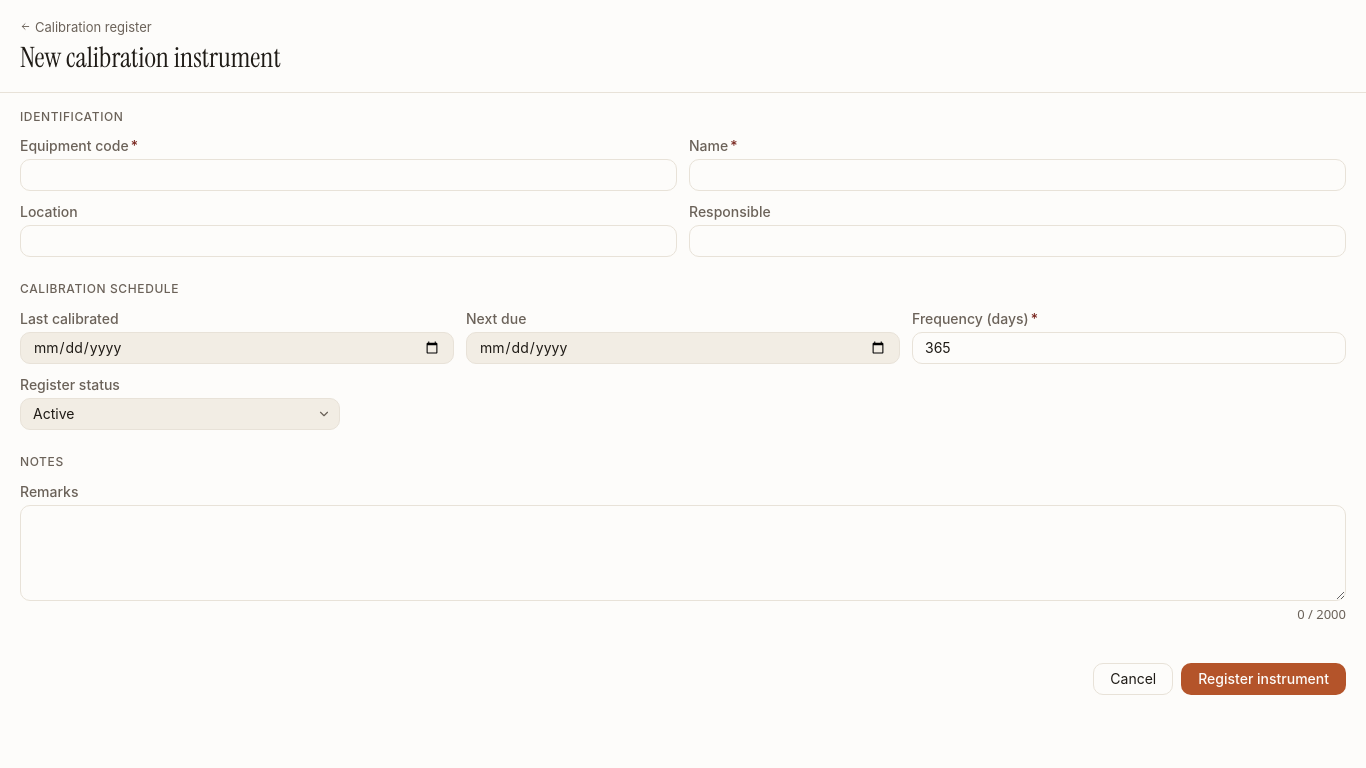
it: CalibrationFormPage › refuses a next-due date earlier than the last calibration date
In the field labelled "Equipment code*": (348, 175) [21,160,676,190], type "CAL-UI-2"
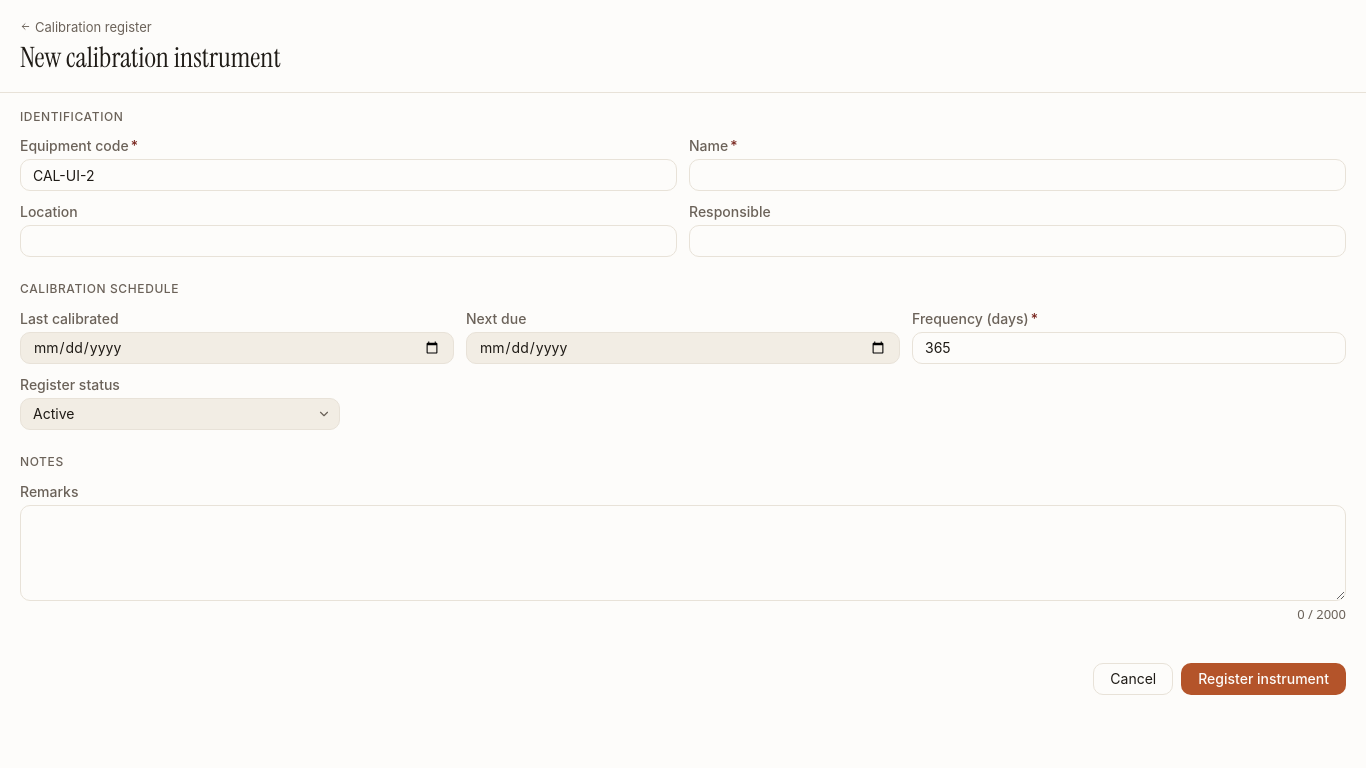
In the field labelled "Name*": (1018, 175) [690,160,1345,190], type "Micrometer"
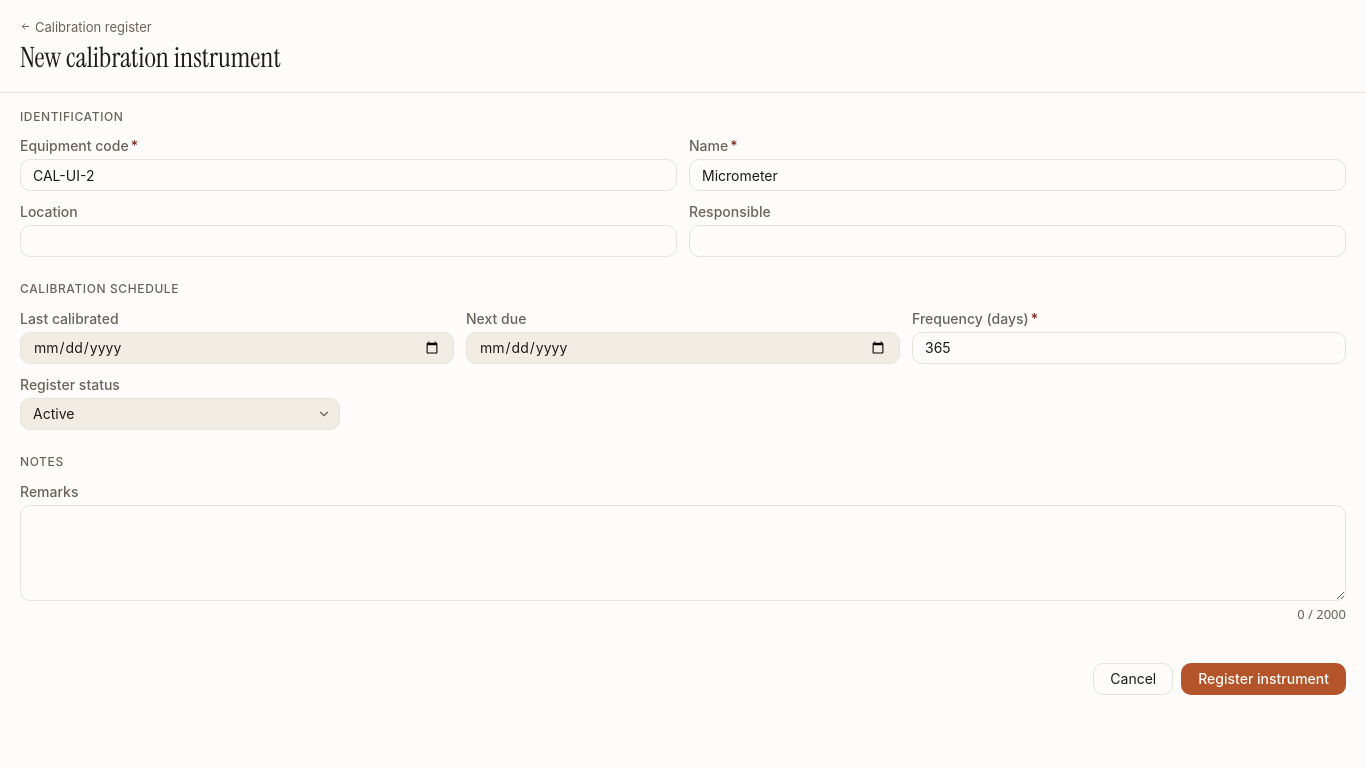
In the date field labelled "Last calibrated": (237, 348) [21,333,453,363], type "2026-10-19"
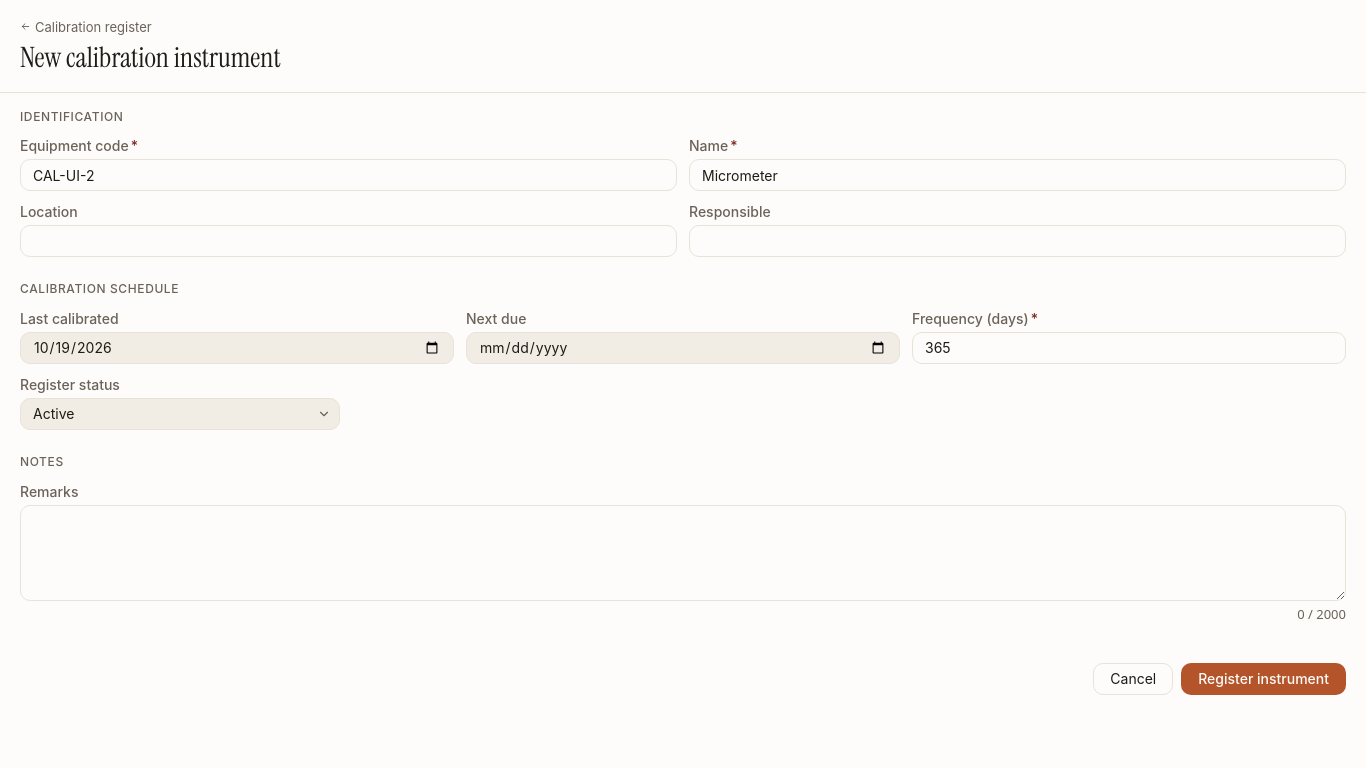
In the date field labelled "Next due": (683, 348) [467,333,899,363], type "2026-10-09"
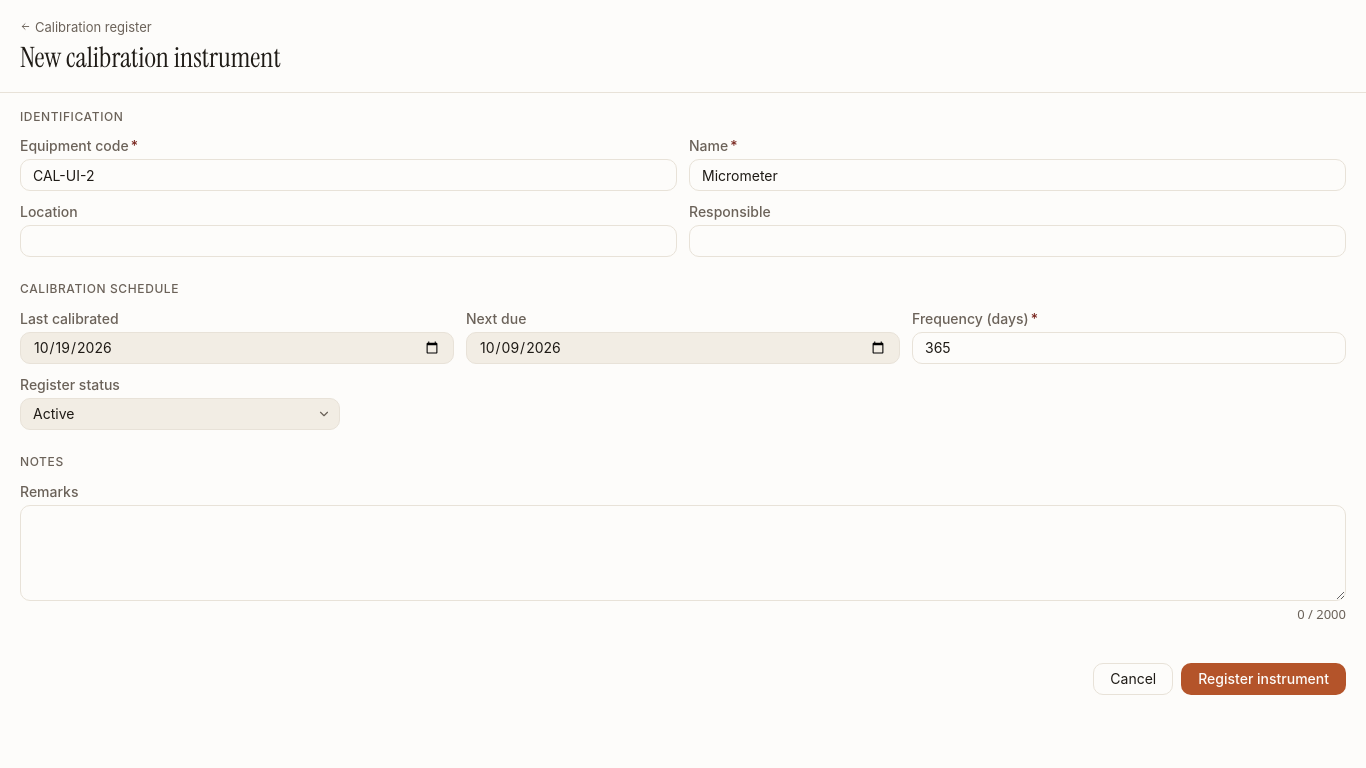
Click the button "Register instrument": (1264, 679) [1181,663,1346,695]
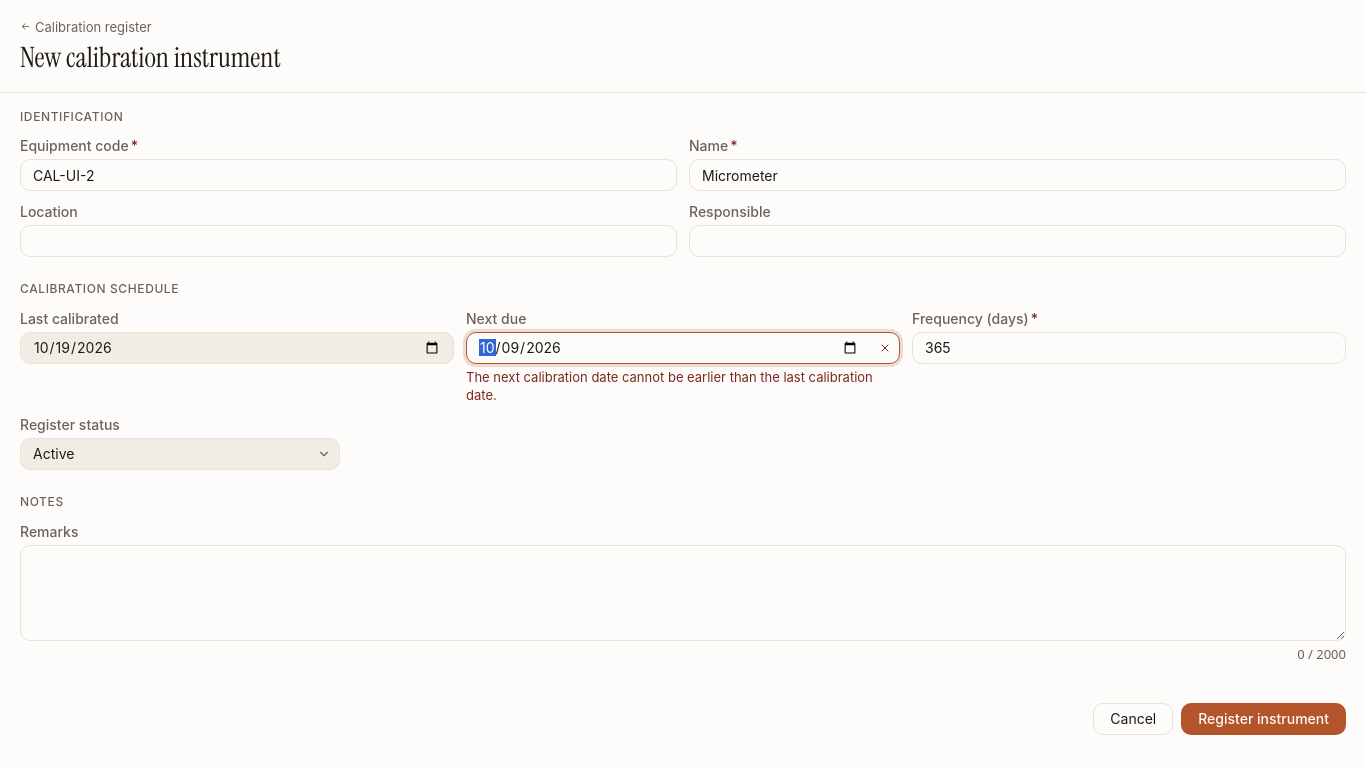
Now the text "The next calibration date cannot be earlier than the last calibration date." is shown, box [466,368,900,404]
